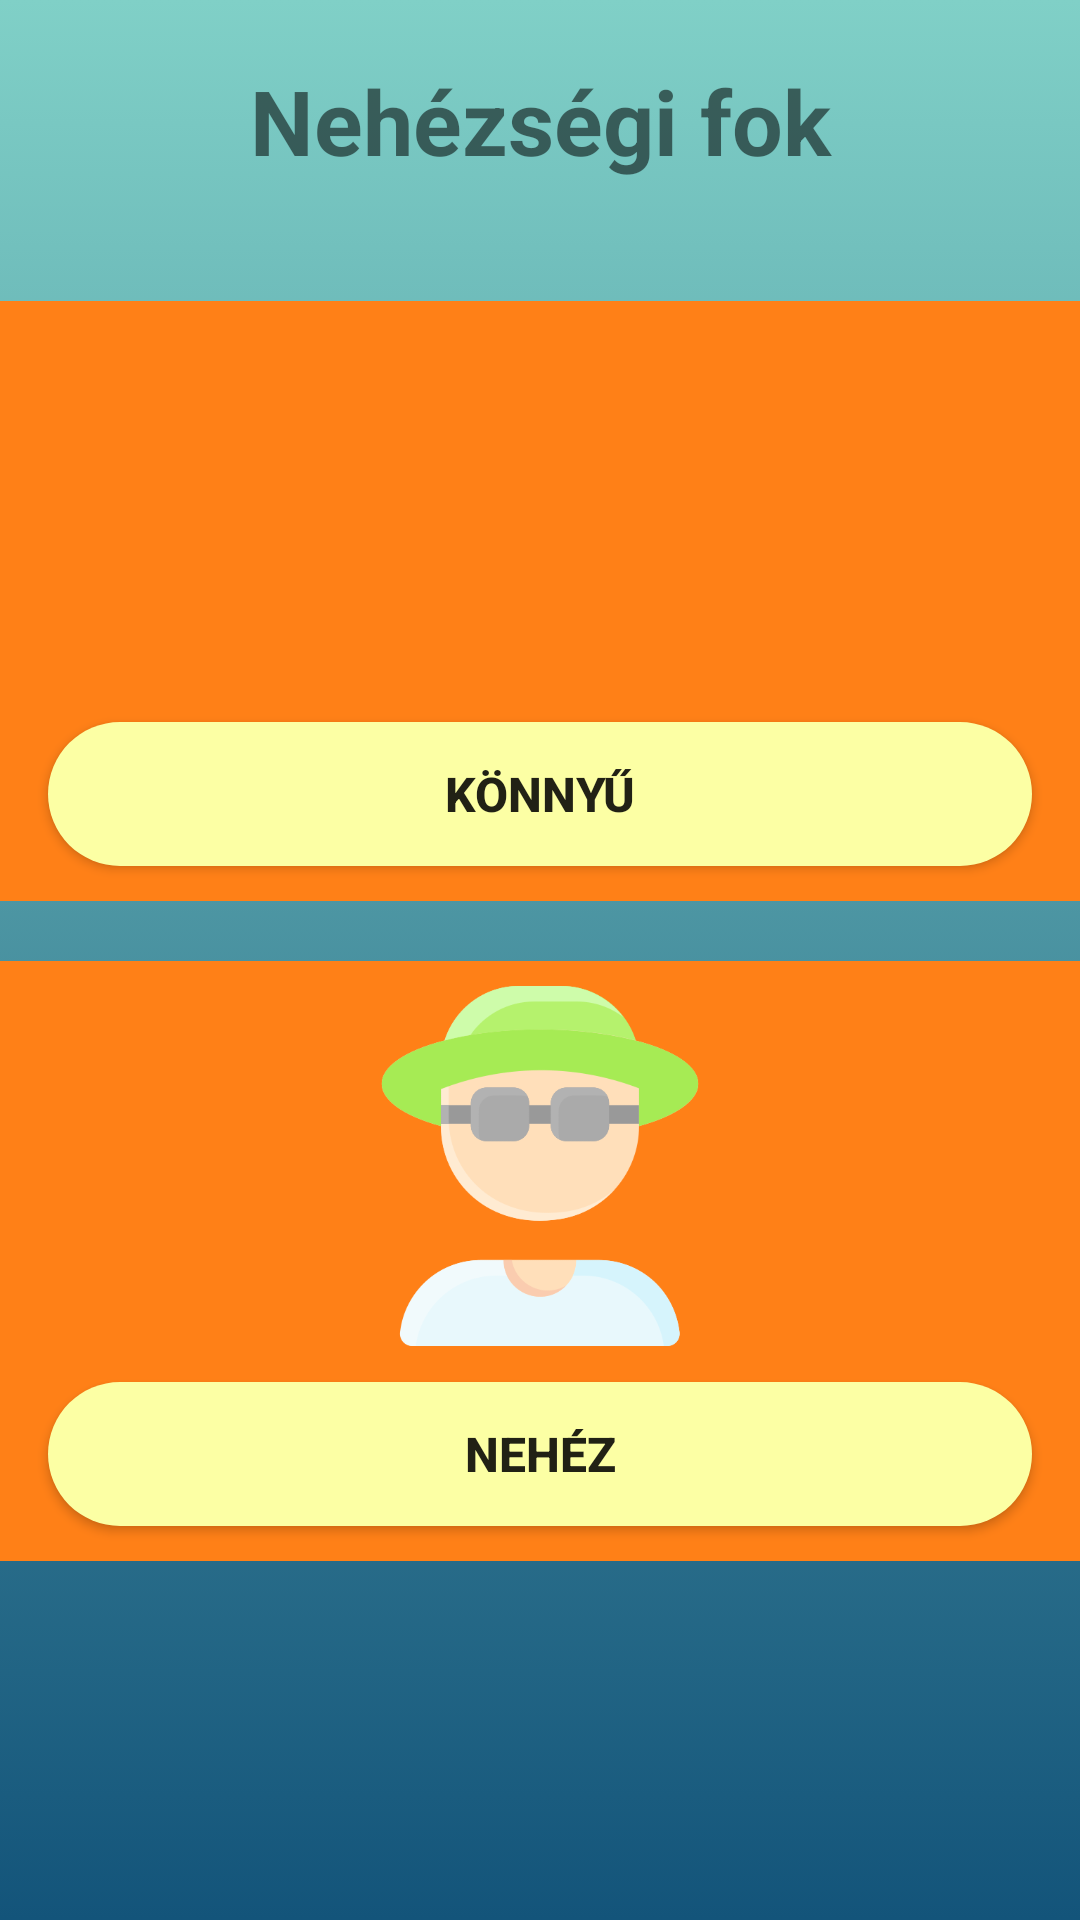

Named icons in this screenshot (1080px×1920px) and their centers, point (x, y):
pro: point (540, 1166)
